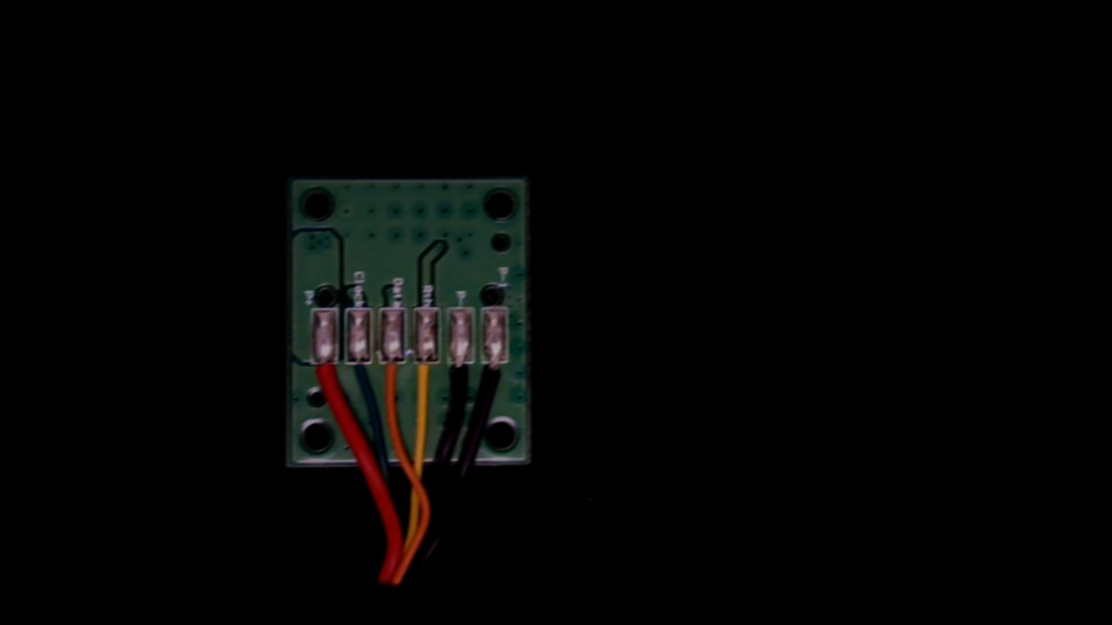Black: (445, 343, 476, 407)
Black1: (480, 344, 509, 403)
Green: (345, 338, 375, 400)
Orange: (379, 340, 408, 403)
Red: (310, 342, 341, 403)
Yellow: (414, 342, 445, 407)
